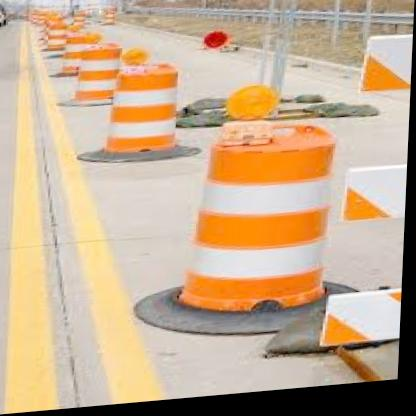obstacle: (172, 129, 342, 326), (104, 61, 184, 156)
